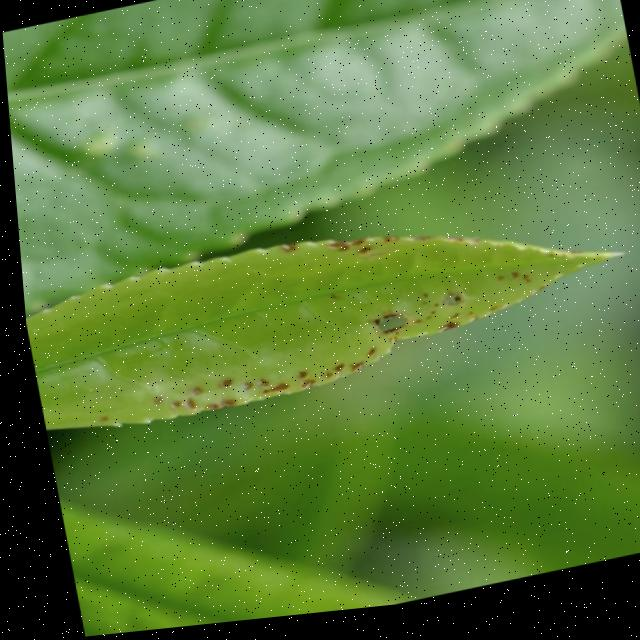Tea red scab: (69, 212, 602, 463)
